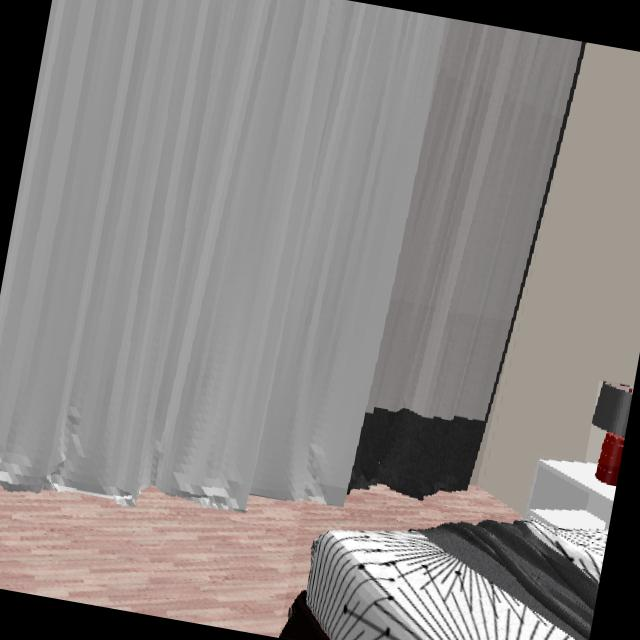bed: (279, 520, 605, 640)
lamp: (591, 381, 633, 487)
nighttable: (527, 462, 615, 532)
